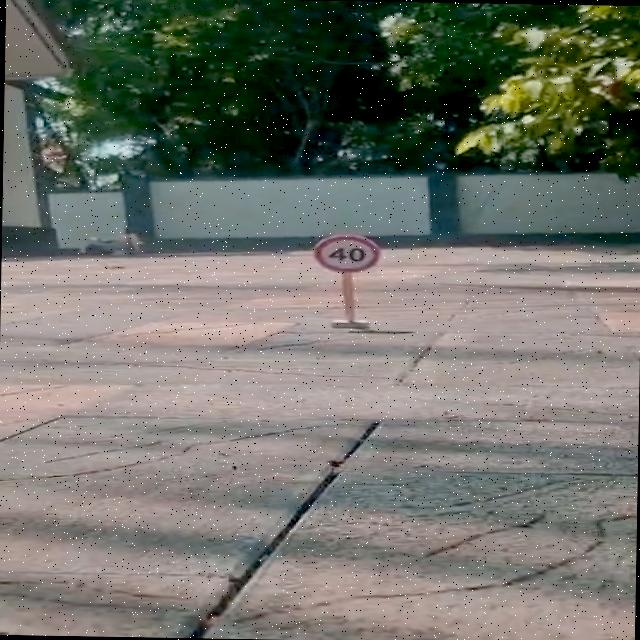Speed40: (308, 232, 385, 274)
